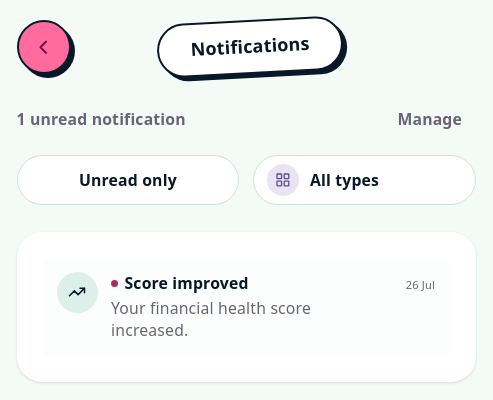
Test case: NotificationsPage › shows the empty filtered-results state
Check: the text "Score improved" is shown, box [124, 272, 248, 294]
Step 1. Click the button "Unread only" → [128, 180], box [16, 155, 239, 204]
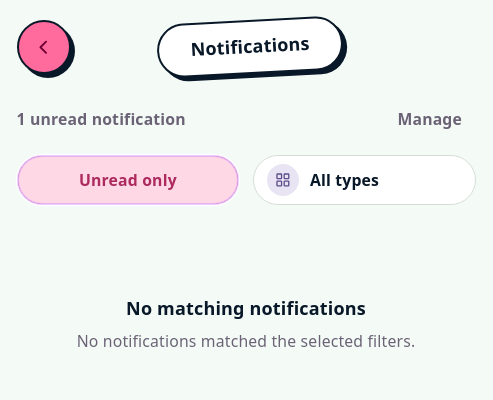
Check: the text "No matching notifications" is shown, box [126, 294, 366, 321]
Check: the text "No notifications matched the selected filters." is shown, box [77, 330, 415, 352]
